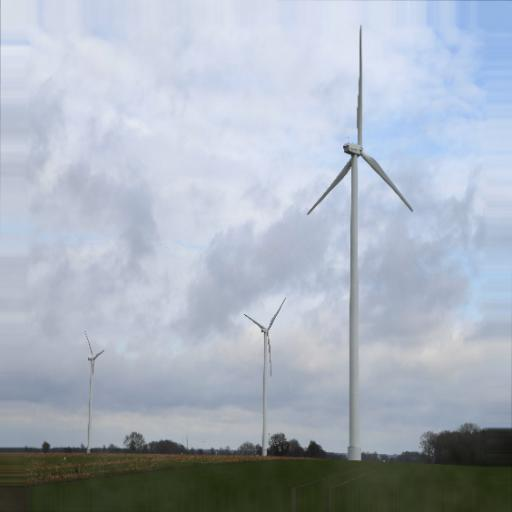wind turbine: (308, 23, 417, 463), (242, 297, 287, 460), (83, 331, 106, 452)
